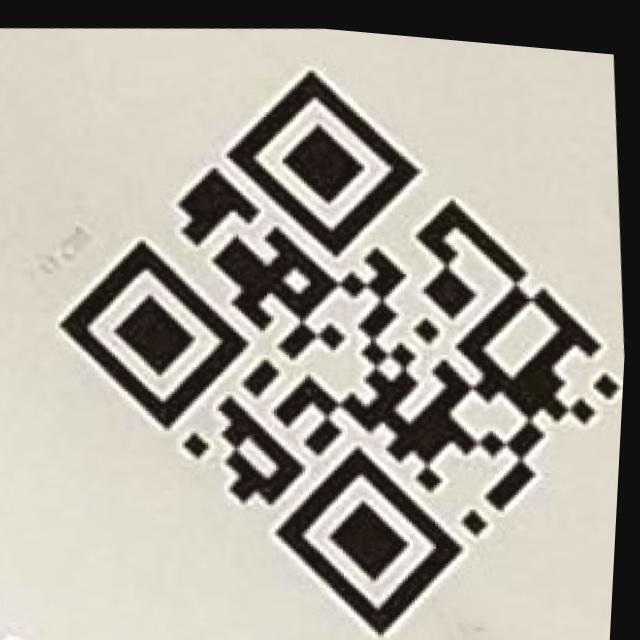QR_CODE: (23, 17, 639, 640)
